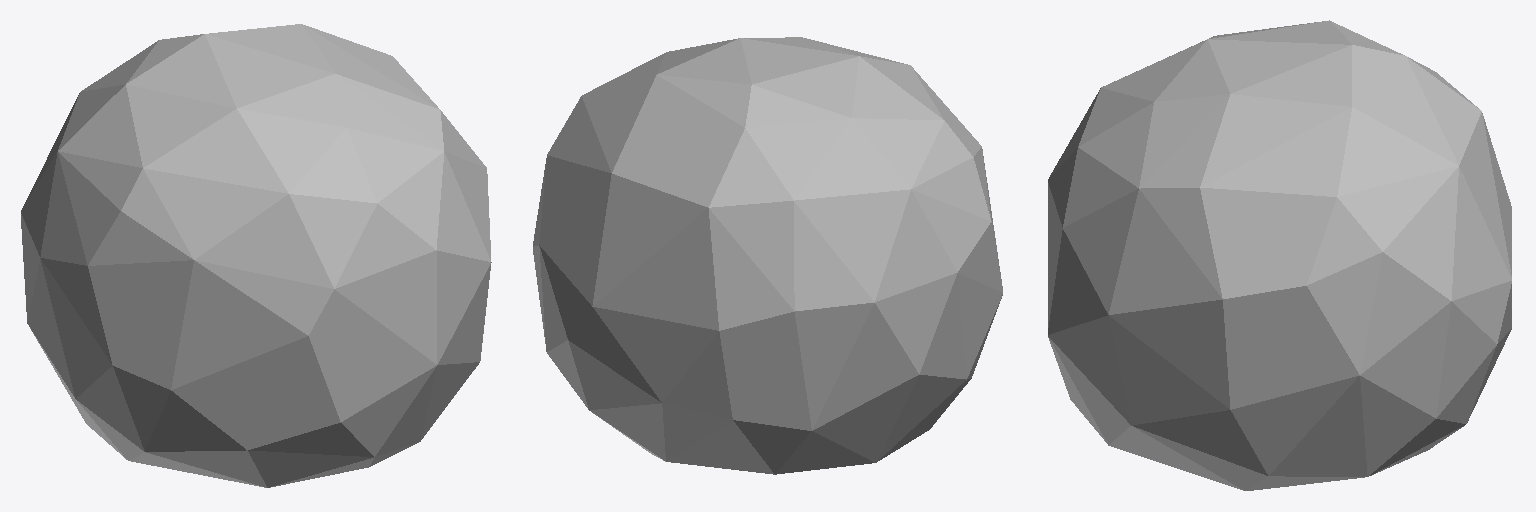
The robot description file, URDF, robot "root":
<robot name="root">
  <link name="link_ycb~017_orange_convex_piece_0">
    <inertial>
      <origin xyz="0 0 0" rpy="0 0 0"/>
      <mass value="8.83E-01"/>
      <inertia ixx="4.96E-04" ixy="-1.79E-06" ixz="1.91E-06" iyy="5.07E-04" iyz="-3.29E-06" izz="5.47E-04"/>
    </inertial>
    <visual>
      <origin xyz="0 0 0" rpy="0 0 0"/>
      <geometry>
        <mesh filename="ycb~017_orange_convex_piece_0.obj" scale="1.0000E+00 1.0000E+00 1.0000E+00"/>
      </geometry>
      <material name="">
        <color rgba="7.50E-01 7.50E-01 7.50E-01 1"/>
      </material>
    </visual>
    <collision>
      <origin xyz="0 0 0" rpy="0 0 0"/>
      <geometry>
        <mesh filename="ycb~017_orange_convex_piece_0.obj" scale="1.0000E+00 1.0000E+00 1.0000E+00"/>
      </geometry>
    </collision>
  </link>
</robot>

--- Facts derived from the render (not from the file) ---
The picture shows the robot from 3 angles, left to right: view 1: azimuth 30°, elevation 25°; view 2: azimuth 150°, elevation 25°; view 3: azimuth 270°, elevation 25°; orthographic projection.
Robot: root — 1 links, 0 joints (none); root link link_ycb~017_orange_convex_piece_0; default pose: all joints at 0.
Visible links, largest first — view 1: link_ycb~017_orange_convex_piece_0; view 2: link_ycb~017_orange_convex_piece_0; view 3: link_ycb~017_orange_convex_piece_0.
Link boxes in pixels (x1,y1,x2,y2): link_ycb~017_orange_convex_piece_0: [21, 24, 491, 487]; link_ycb~017_orange_convex_piece_0: [533, 37, 1002, 474]; link_ycb~017_orange_convex_piece_0: [1048, 20, 1511, 490].
Bounding box of the posed robot: 0.0772 × 0.0748 × 0.0686 m (x, y, z).
1 mesh visuals loaded from 1 distinct referenced files (1 OBJ).